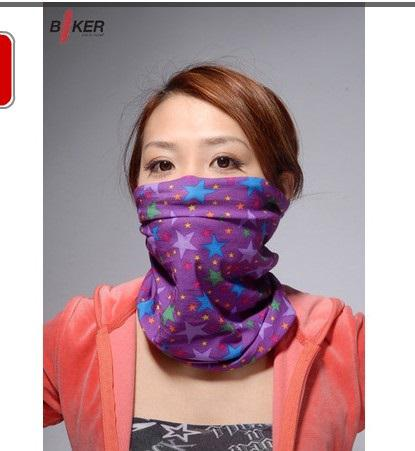OK: (132, 124, 283, 282)
